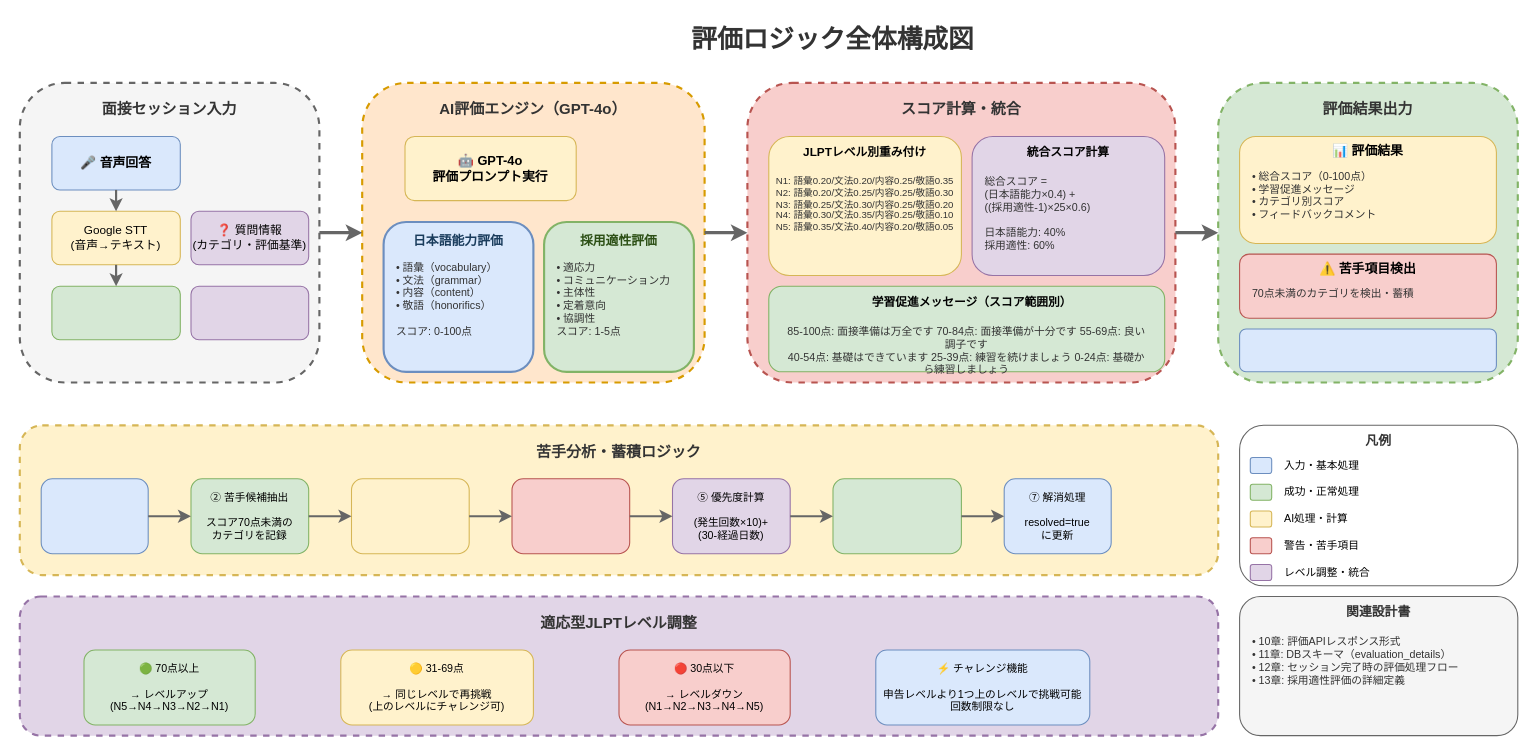
Image size: 1537x754. Some labels were removed from this diagram. Here are the shapes that lost their labels. From the top down, the centre of each, then its label:
At point 115,312: "📝 テキスト回答".
At point 249,312: "📊 JLPTレベル (N1-N5)".
At point 1367,350: "📤 mintoku work連携".
At point 94,516: "① スコア判定 各カテゴリ 70点未満?".
At point 409,516: "③ 蓄積判定 同一カテゴリ 3回以上発生?".
At point 570,516: "④ 苦手タグ登録 weak_points テーブルに保存".
At point 896,516: "⑥ 解消判定 同一カテゴリ 3回連続70点以上?".
